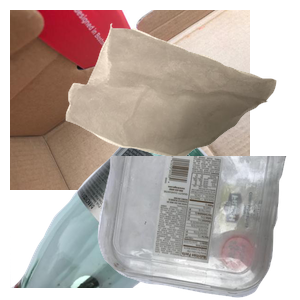cardboard: (10, 10, 250, 190)
glass: (10, 120, 224, 300)
plastic: (95, 156, 300, 300)
trash: (63, 21, 300, 172)
